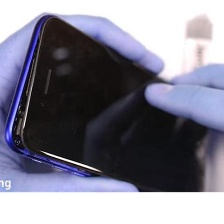phone: (2, 11, 224, 209)
